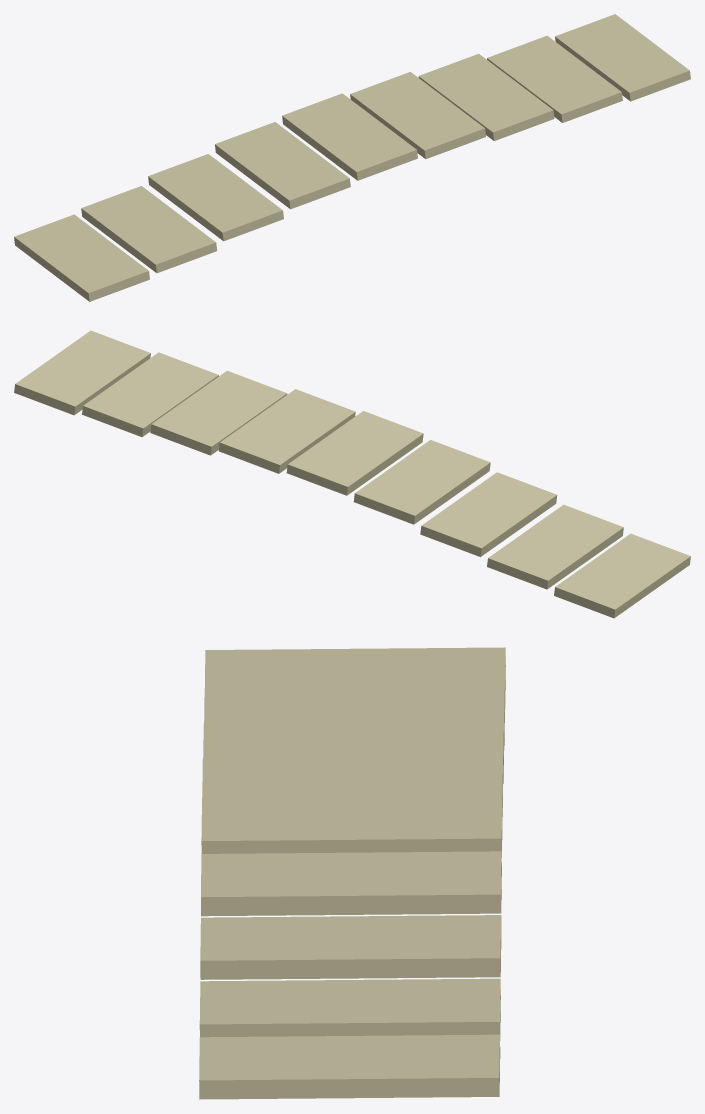
Rendered from SM_Bridge.FBX.
3 views of the same model, one above another, from view 1: azimuth 30°, elevation 25°; view 2: azimuth 150°, elevation 25°; view 3: azimuth 270°, elevation 25° (orthographic). The views are drawn at different scales.
Parts seen in each view (by area): view 1: SM_Bridge1; view 2: SM_Bridge1; view 3: SM_Bridge1.
Boxes of the visible parts, bbox=[...] form: SM_Bridge1: bbox=[14, 14, 690, 301]; SM_Bridge1: bbox=[14, 330, 690, 618]; SM_Bridge1: bbox=[199, 647, 505, 1099].
Bounding box in the file's own units: 867 × 192 × 121.
